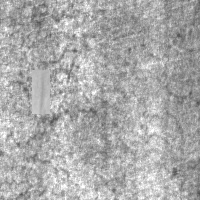crazing: (4, 1, 105, 149), (1, 151, 72, 199)
inclusion: (32, 70, 50, 114)
